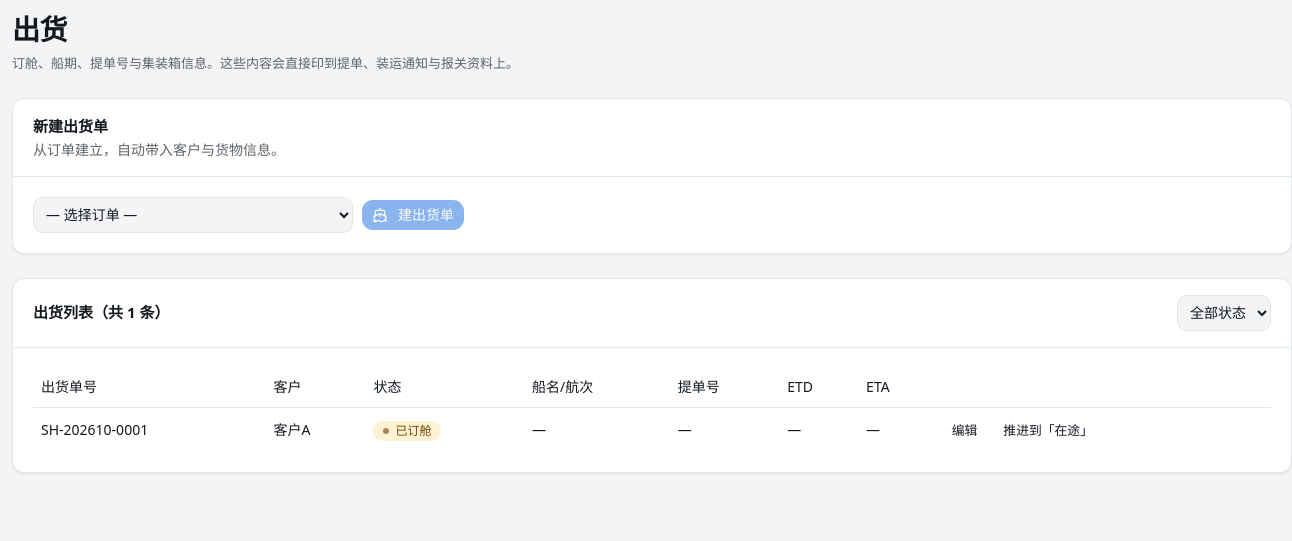
出货工位 · 失败反馈与防重 › 状态推进失败 → 页内显示原因
Click the button "推进到「在途」".
click(1048, 430)  # box x1=992 y1=416 x2=1104 y2=444
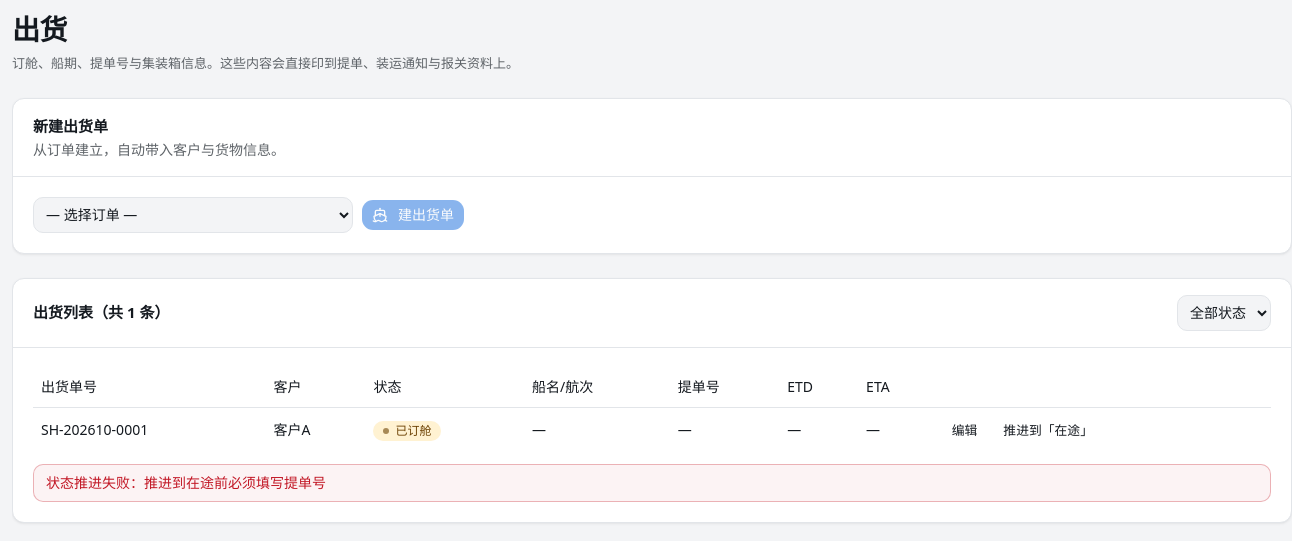
Expected: the message "状态推进失败：推进到在途前必须填写提单号" is shown, x1=33 y1=464 x2=1271 y2=502
